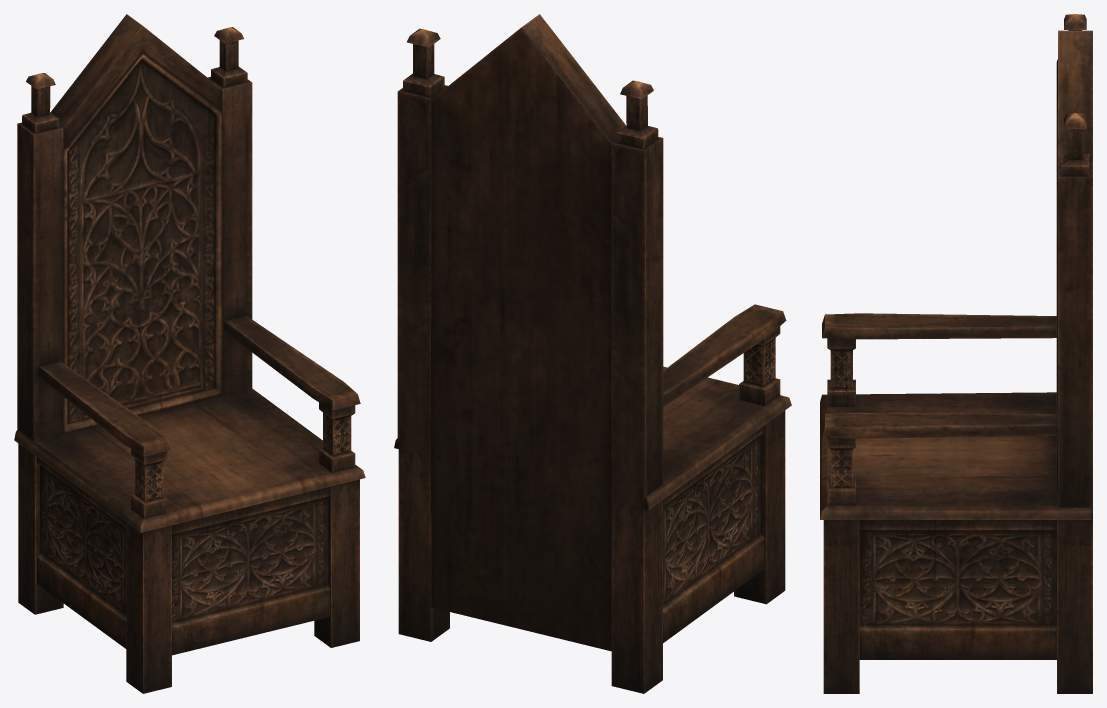
Rendered from RoyalThrone.dae.
3 renders of one model, left to right at view 1: azimuth 30°, elevation 25°; view 2: azimuth 150°, elevation 25°; view 3: azimuth 270°, elevation 25°, orthographic. The views are drawn at different scales.
Parts seen in each view (by area): view 1: Royal_Throne; view 2: Royal_Throne; view 3: Royal_Throne.
Boxes of the visible parts, x1,y1,x2,y2 form: Royal_Throne: (14,14,365,693); Royal_Throne: (394,14,791,693); Royal_Throne: (820,14,1092,693).
Bounding box in the file's own units: 0.7837 × 1.87 × 0.7626.
1 material, 1 textured.
